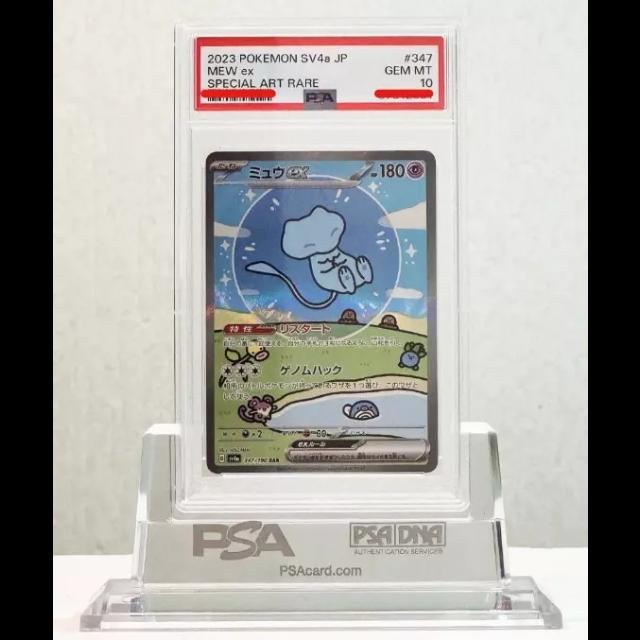card: (204, 151, 437, 474)
psa_label: (192, 36, 445, 111)
psa_slab: (173, 18, 470, 513)
